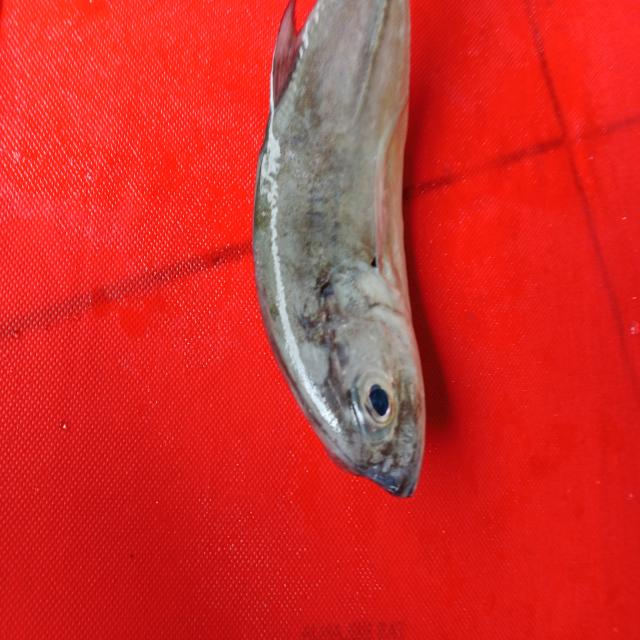ikan: (235, 6, 453, 510)
